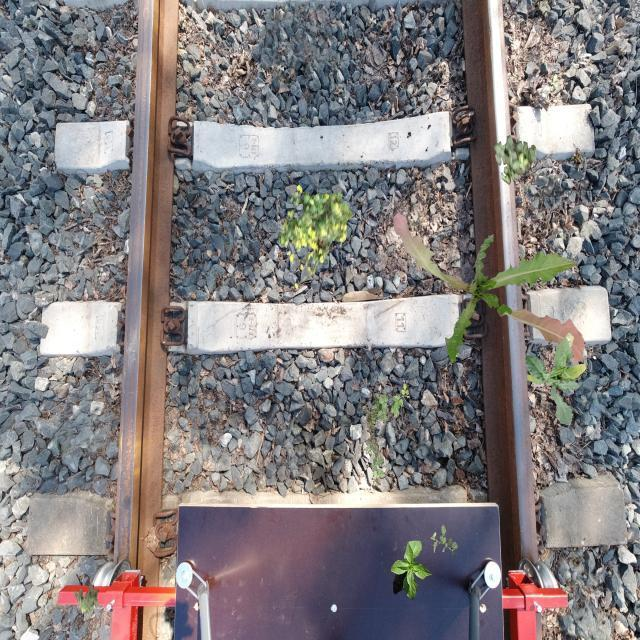Plant: (393, 213, 586, 365), (279, 185, 354, 290), (525, 332, 588, 426), (362, 384, 410, 488), (391, 541, 433, 601), (494, 135, 538, 185), (430, 525, 458, 556), (74, 584, 100, 616)
